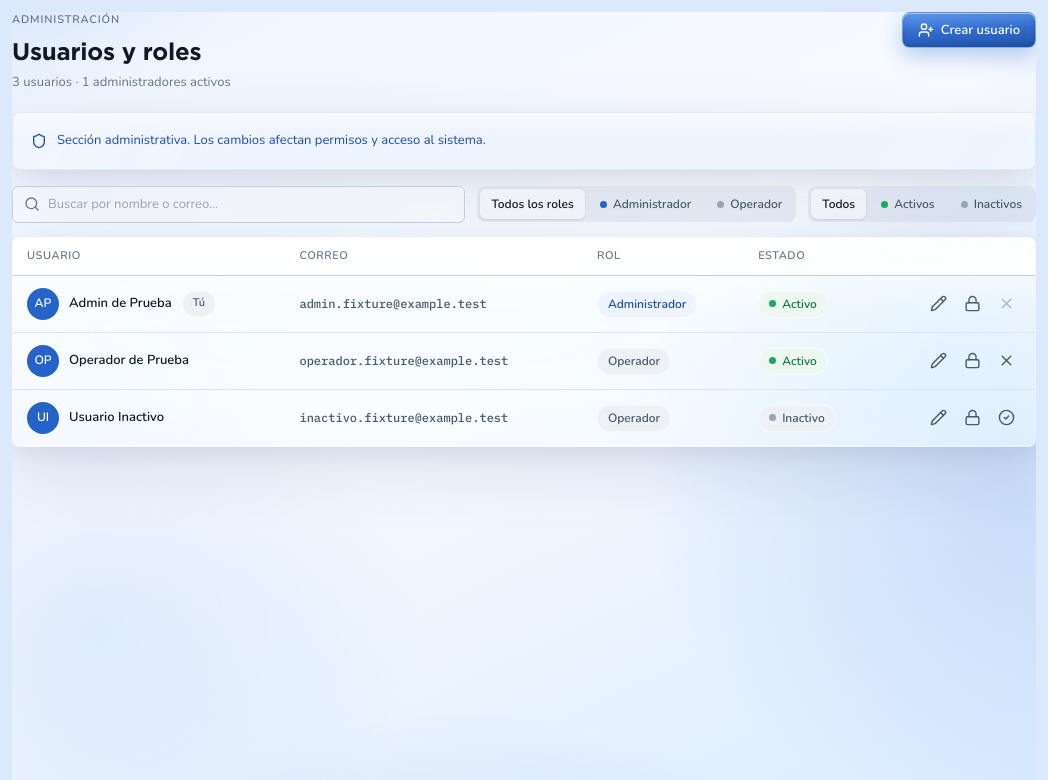
Test: Users › filtra por rol
Expected: the text "Admin de Prueba" is shown, 69,294 -> 172,313
Click the button "Operador". click: coordinates (750, 204)
box: 706,189 -> 793,219
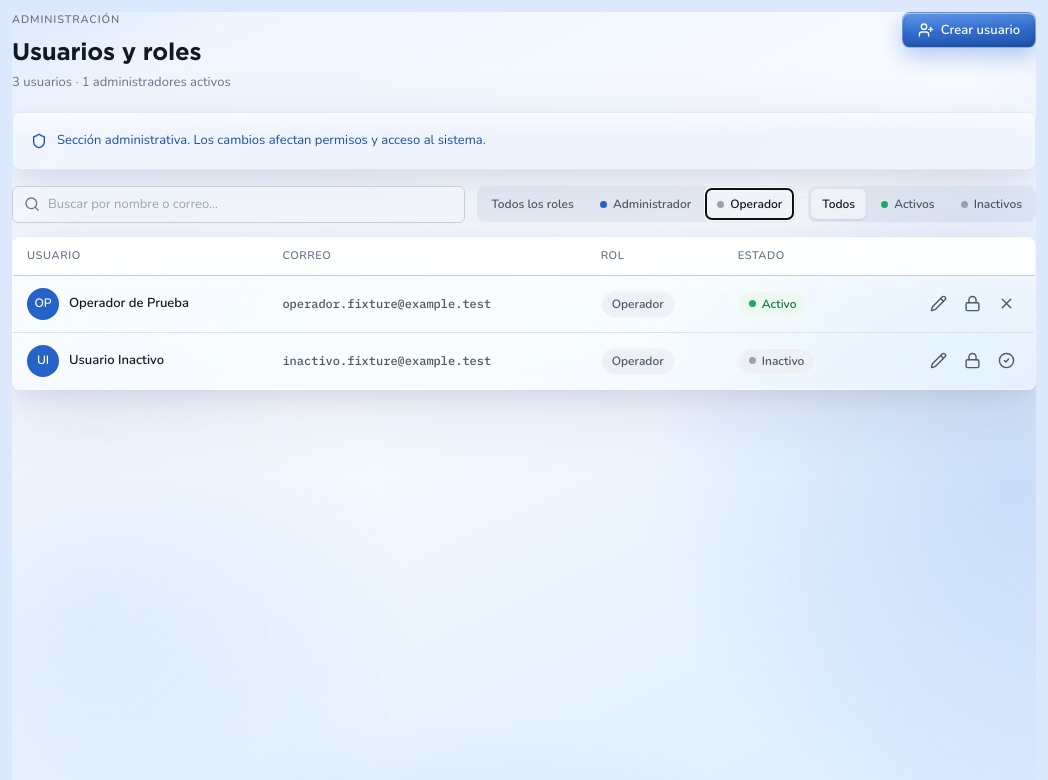
Expected: the text "Operador de Prueba" is shown, 69,294 -> 189,313
Expected: the text "Admin de Prueba" is gone
